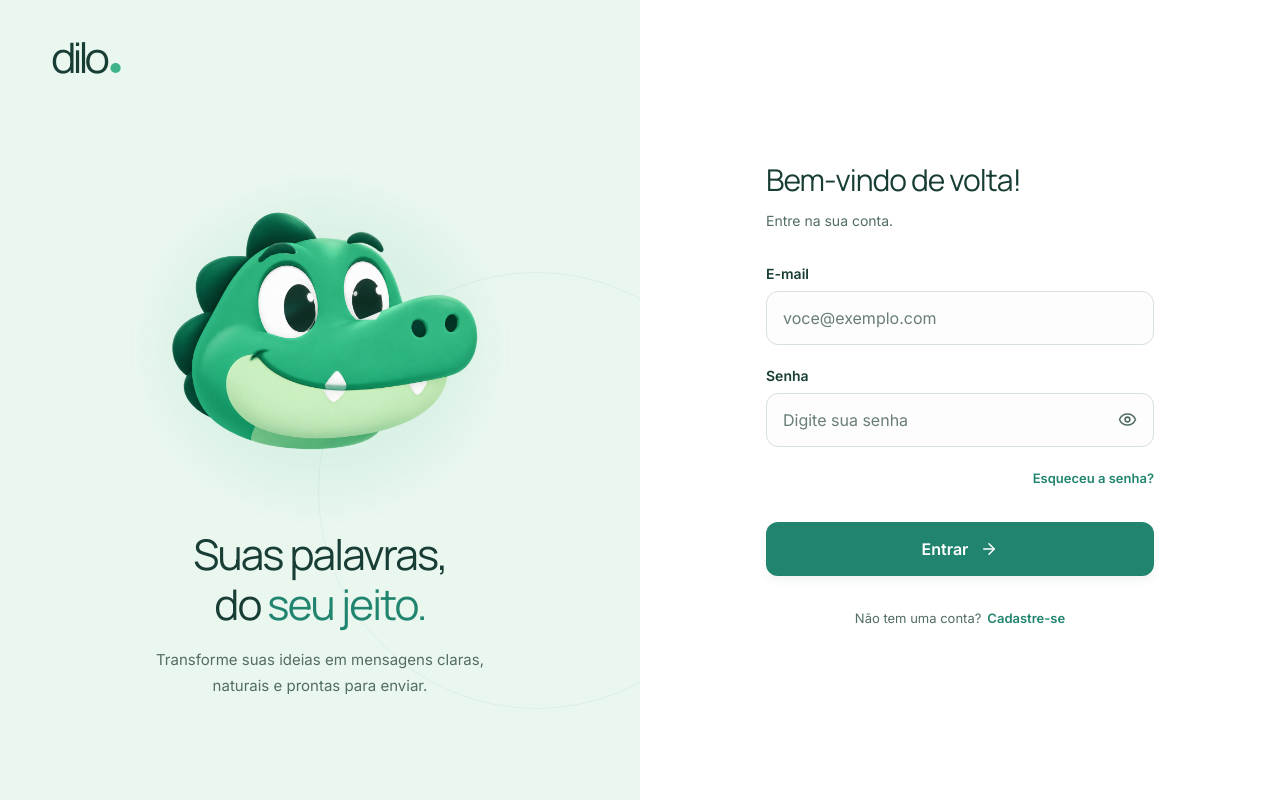
Protótipo de login › aponta os campos ausentes e leva o foco ao primeiro erro
Click the button "Entrar". click: (960,549)
box: [766,522,1154,576]
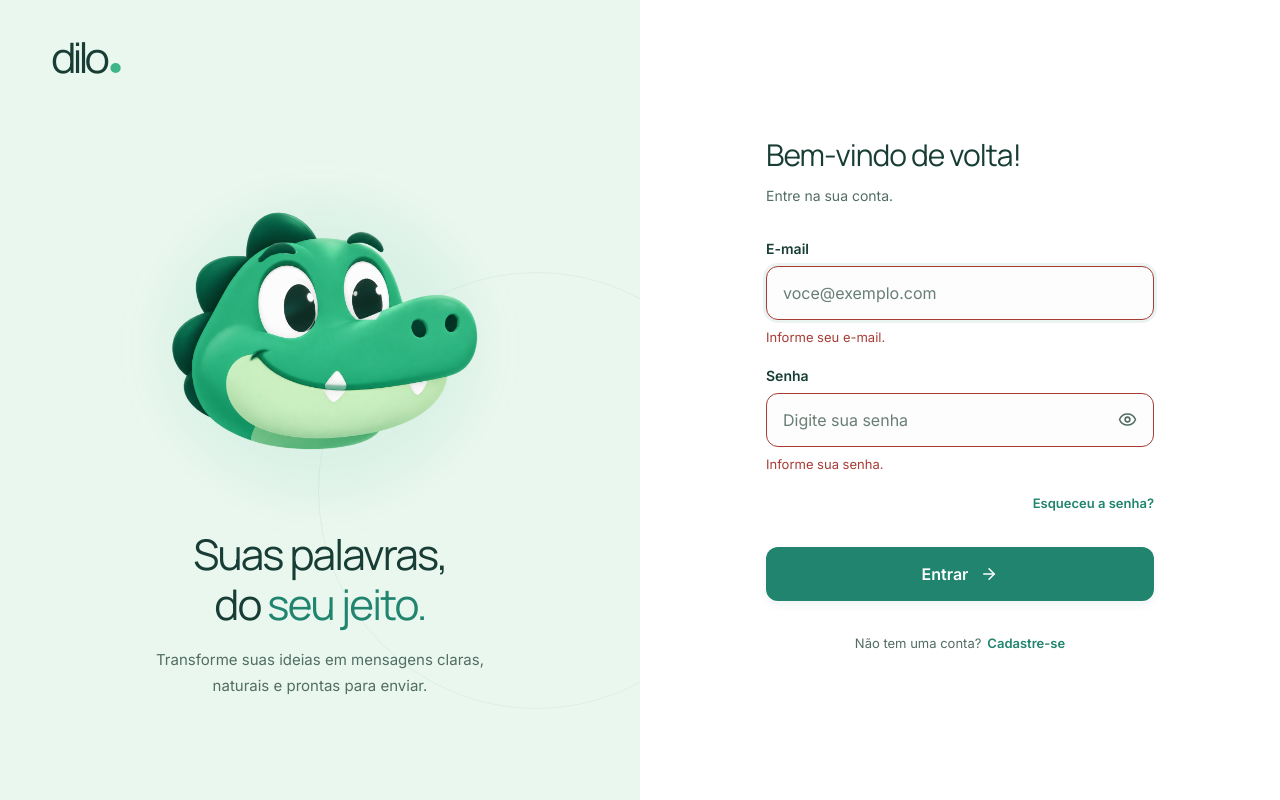
Now the text "Informe seu e-mail." is shown, box [766,329,885,345]
Now the text "Informe sua senha." is shown, box [766,456,884,472]
